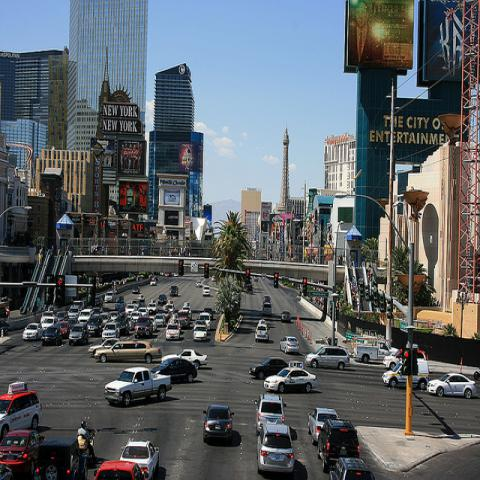car: (0, 247, 431, 479), (256, 422, 296, 475), (118, 437, 161, 479), (263, 366, 318, 394), (383, 359, 428, 392), (203, 403, 235, 444), (255, 394, 288, 433), (427, 373, 476, 398), (151, 358, 198, 383), (330, 458, 374, 474), (279, 335, 300, 354), (192, 324, 207, 342), (168, 318, 180, 329)
motorcycle: (76, 421, 97, 468)
truck: (104, 365, 173, 408), (353, 340, 399, 364)
